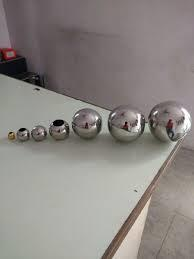steelball: (147, 98, 194, 143), (105, 102, 145, 142), (70, 102, 107, 137), (30, 123, 49, 143)
